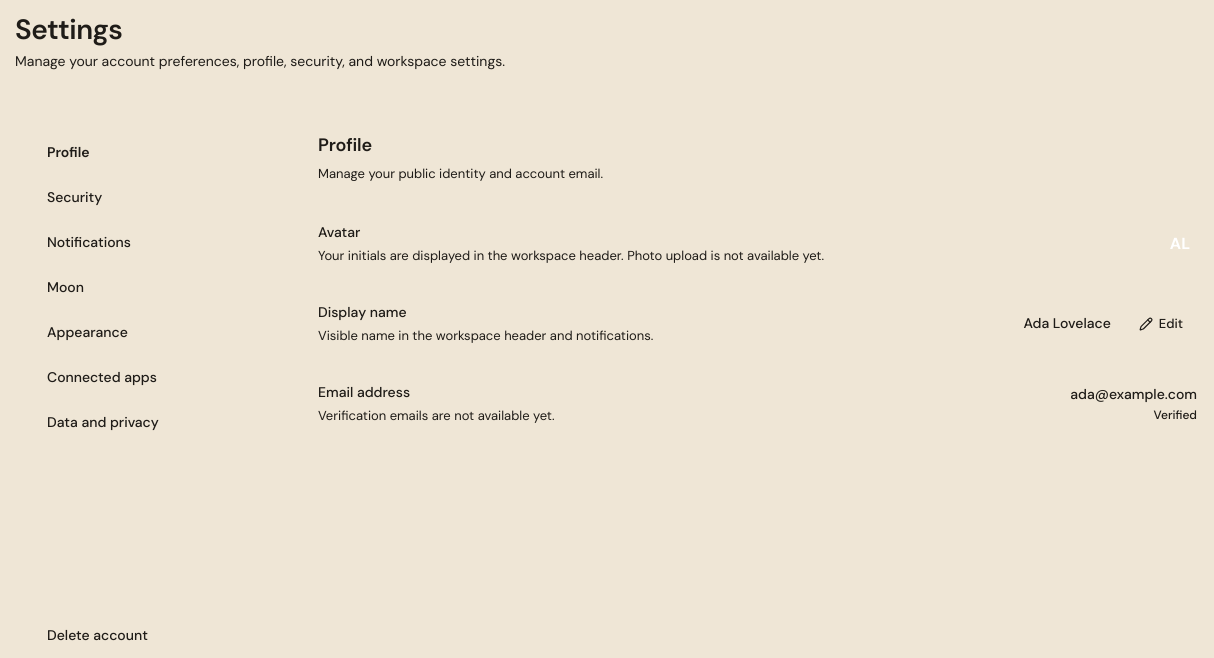
Test: Settings Hub — Phase 1 › Display Name Inline Edit › displays server error inline if updateProfile fails
The image size is (1214, 658).
Click the button with aria-label "Edit Display name" at point(1161, 324), box x1=1125 y1=308 x2=1197 y2=340
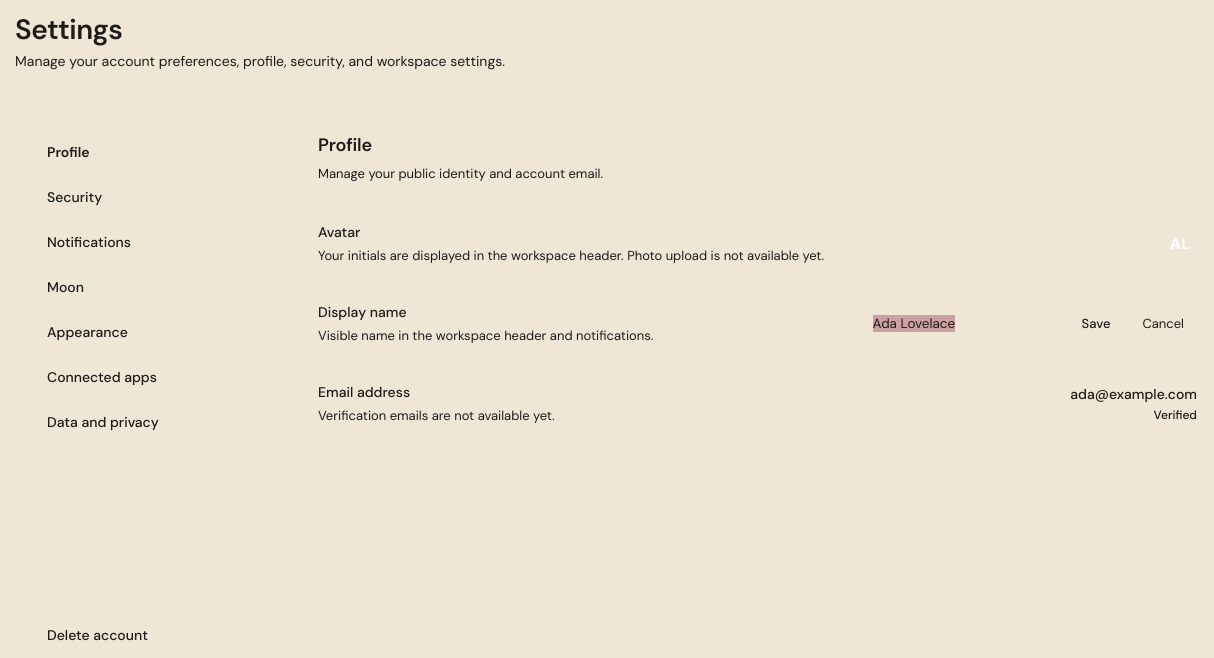
Replace the text in the field labelled "Display name" with "New Name" at point(960, 324), box x1=860 y1=307 x2=1060 y2=341
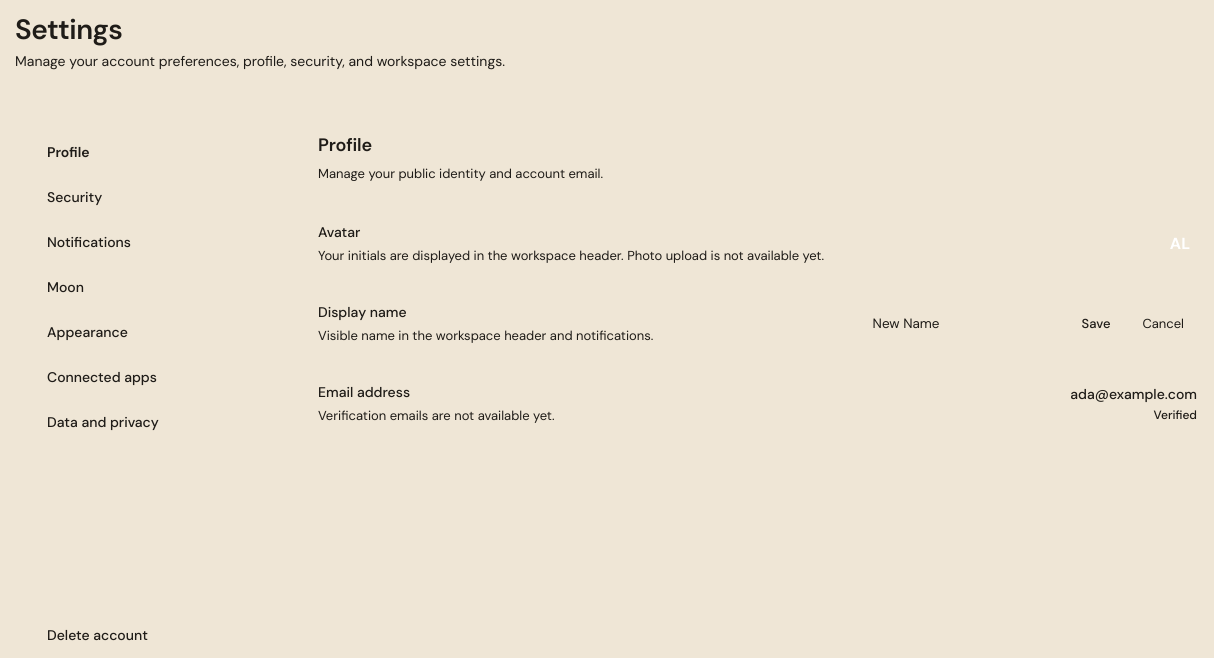
Click the button "Save" at point(1096, 324), box x1=1068 y1=307 x2=1123 y2=341
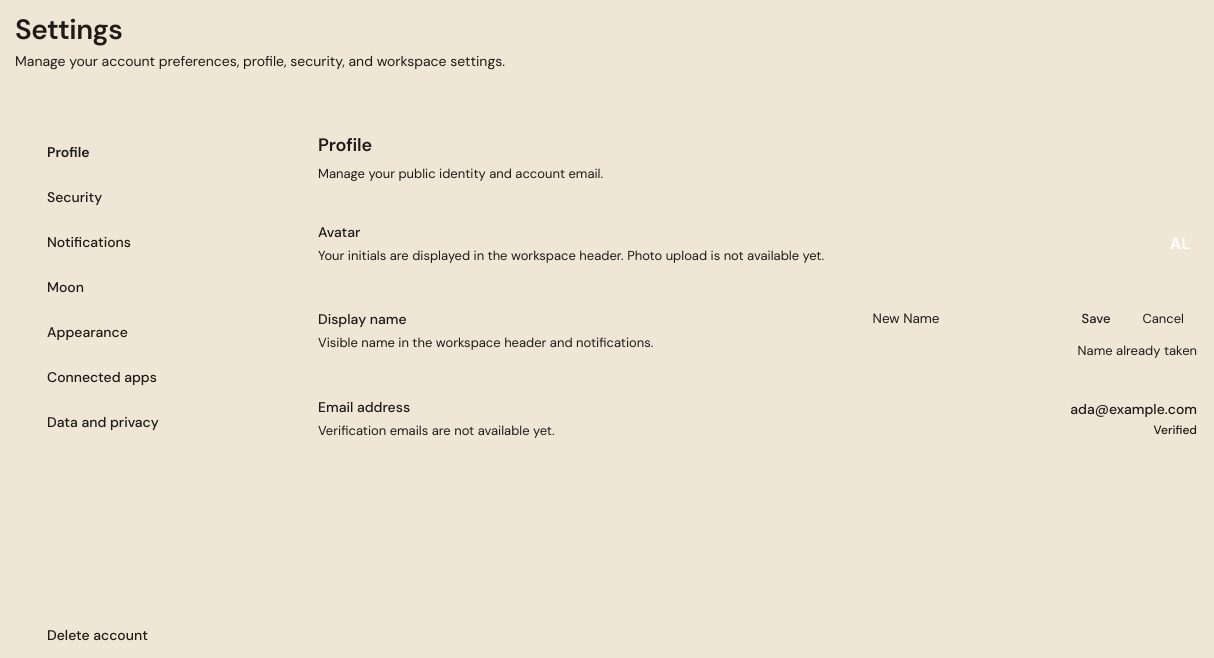
Now the text "Name already taken" is shown, box x1=1078 y1=342 x2=1197 y2=361
